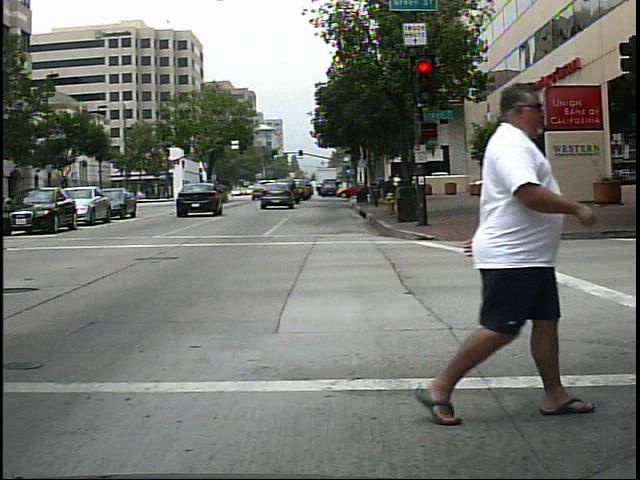person: (406, 72, 596, 431)
